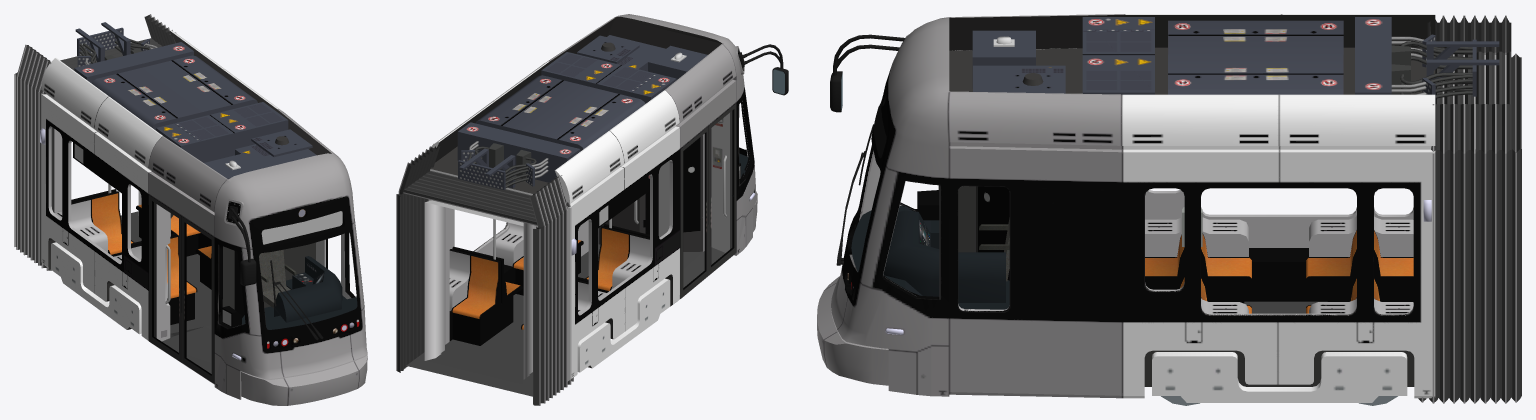
3 renders of one model, left to right at view 1: azimuth 30°, elevation 25°; view 2: azimuth 150°, elevation 25°; view 3: azimuth 270°, elevation 25°, orthographic. The views are drawn at different scales.
Visible parts, largest first — view 1: body, int, garm, d_rl, d_rr, Plane, gabarit; view 2: body, garm, int, door, d_rl, d_rr; view 3: body, int, garm.
Part boxes in pixels (x1,y1,x2,y2): body: (41,22,367,405); int: (48,126,357,373); garm: (14,14,175,270); d_rl: (181,215,214,383); d_rr: (149,194,181,362); Plane: (261,211,342,243); gabarit: (40,128,354,360); body: (428,14,788,381); garm: (396,144,573,405); int: (441,101,748,375); door: (639,135,703,251); d_rl: (708,102,736,275); d_rr: (680,125,708,298); body: (817,14,1499,402); int: (851,96,1413,315); garm: (1418,15,1521,403).
Bounding box in the file's own units: 2.44 × 3.42 × 6.78.
